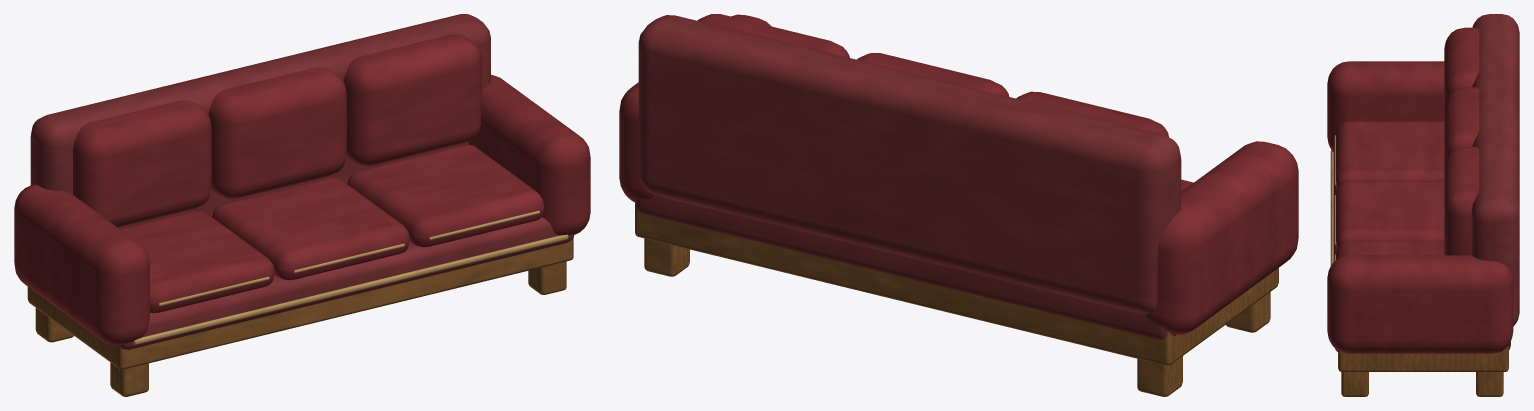
File: Furn_Sofa3.fbx
3 views of the same model, side by side, from view 1: azimuth 30°, elevation 25°; view 2: azimuth 150°, elevation 25°; view 3: azimuth 270°, elevation 25° (orthographic). The views are drawn at different scales.
Parts seen in each view (by area): view 1: Furn_Sofa3_Mesh; view 2: Furn_Sofa3_Mesh; view 3: Furn_Sofa3_Mesh.
Part boxes in pixels (bbox=[...]): Furn_Sofa3_Mesh: bbox=[14, 14, 590, 396]; Furn_Sofa3_Mesh: bbox=[619, 14, 1298, 396]; Furn_Sofa3_Mesh: bbox=[1327, 14, 1519, 396].
Bounding box in the file's own units: 2.4 × 1 × 0.8995.
Materials: 4 (4 with a texture image).
